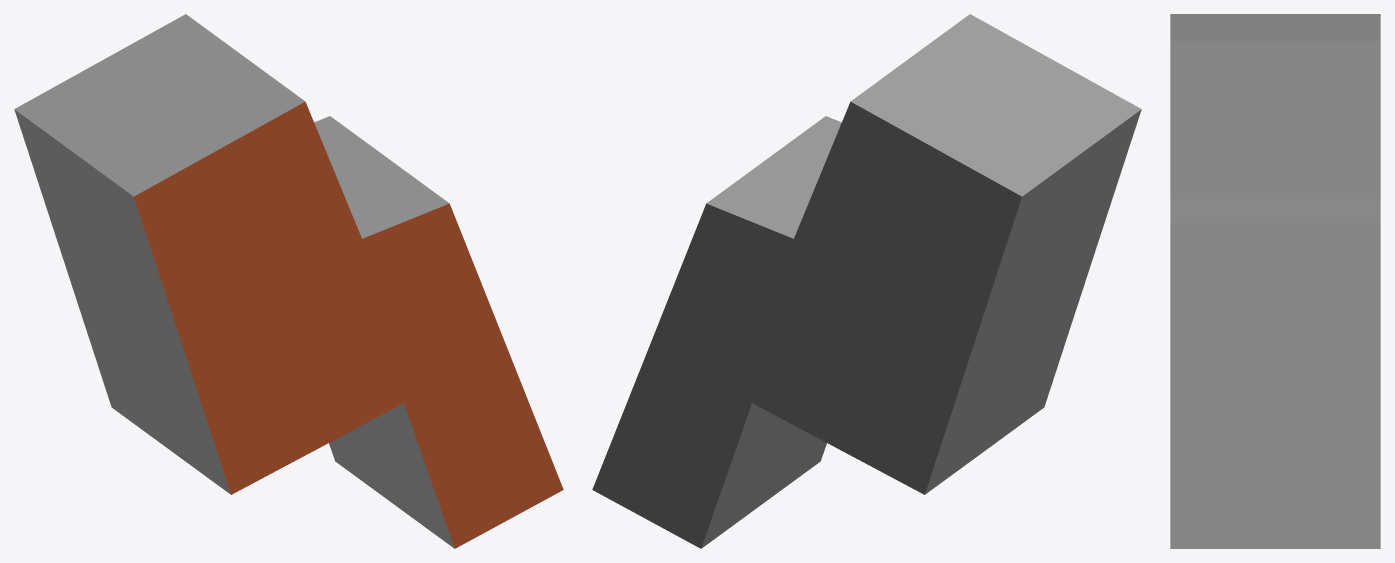
File: construction_2029_assumed_A_Casa_h6m.obj
The picture shows the model from 3 angles, left to right: view 1: azimuth 30°, elevation 25°; view 2: azimuth 150°, elevation 25°; view 3: azimuth 270°, elevation 25°; orthographic projection. The views are drawn at different scales.
Visible parts, largest first — view 1: construction_2029_assumed_A_Casa; view 2: construction_2029_assumed_A_Casa; view 3: construction_2029_assumed_A_Casa.
Part boxes in pixels (x1=…): construction_2029_assumed_A_Casa: x1=14, y1=14, x2=563, y2=548; construction_2029_assumed_A_Casa: x1=592, y1=14, x2=1141, y2=548; construction_2029_assumed_A_Casa: x1=1170, y1=14, x2=1380, y2=548.
Size of the model in its own units: 12.45 by 13.39 by 6.
